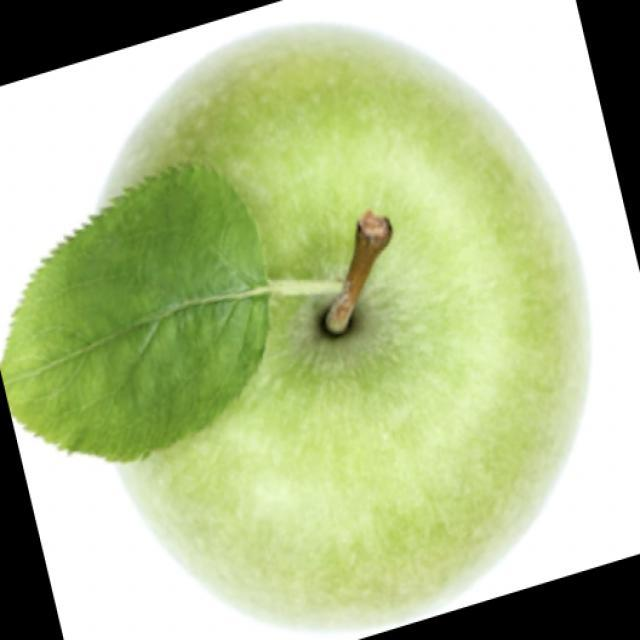Fresh Apple: (85, 23, 558, 597)
